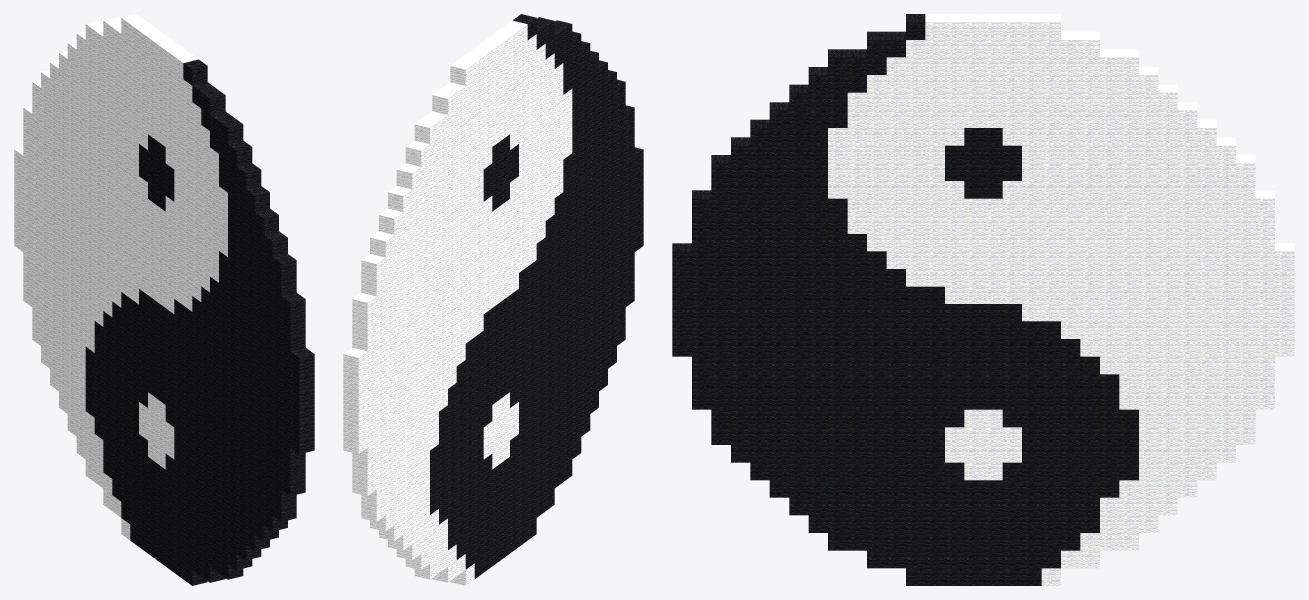
File: yin-transformed.glb
3 renders of one model, left to right at view 1: azimuth 30°, elevation 25°; view 2: azimuth 150°, elevation 25°; view 3: azimuth 270°, elevation 25°, orthographic. The views are drawn at different scales.
Parts seen in each view (by area): view 1: Object_2; view 2: Object_2; view 3: Object_2.
Boxes of the visible parts, x1,y1,x2,y2 form: Object_2: [14, 14, 314, 585]; Object_2: [343, 14, 643, 585]; Object_2: [672, 14, 1294, 585].
Size of the model in its own units: 0.0313 by 1 by 1.
Materials: 1 (1 with a texture image).
